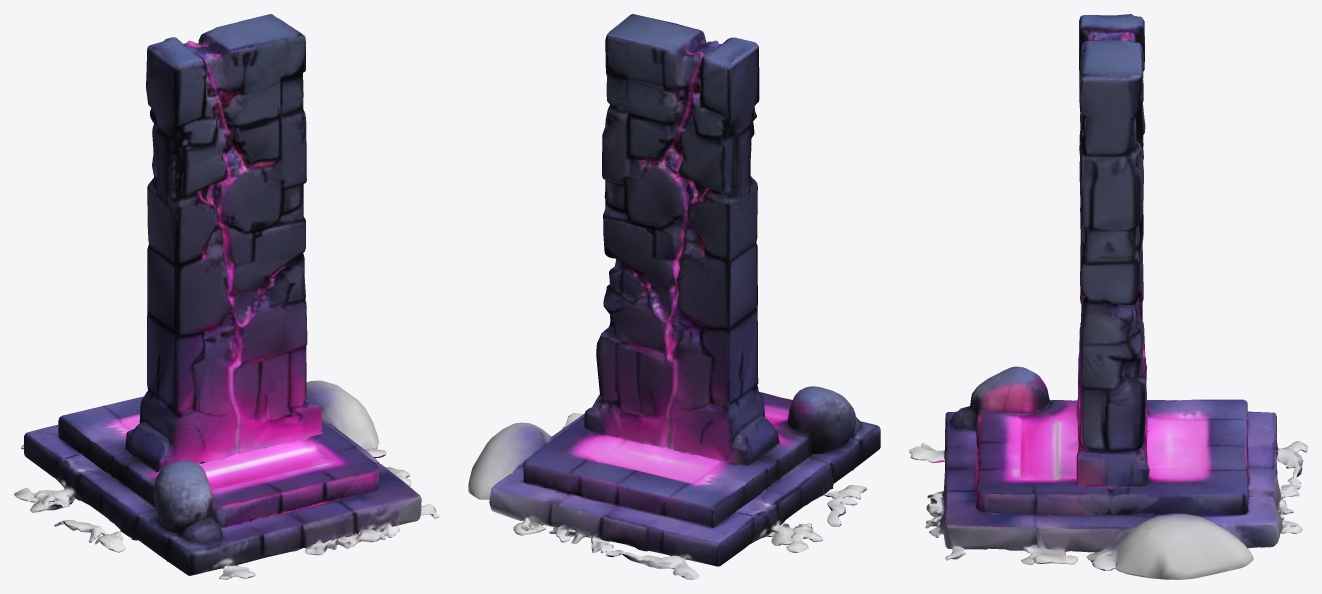
File: support-column-generated-2026-05-17T18-39-33-622Z.low.glb
The picture shows the model from 3 angles, left to right: view 1: azimuth 30°, elevation 25°; view 2: azimuth 150°, elevation 25°; view 3: azimuth 270°, elevation 25°; orthographic projection.
Visible parts, largest first — view 1: temp_mesh.ply; view 2: temp_mesh.ply; view 3: temp_mesh.ply.
Part boxes in pixels (x1,y1,x2,y2): temp_mesh.ply: (14, 14, 439, 579); temp_mesh.ply: (468, 14, 880, 579); temp_mesh.ply: (909, 14, 1307, 579).
Size of the model in its own units: 1.56 by 1.97 by 1.57.
1 material, 1 textured.
